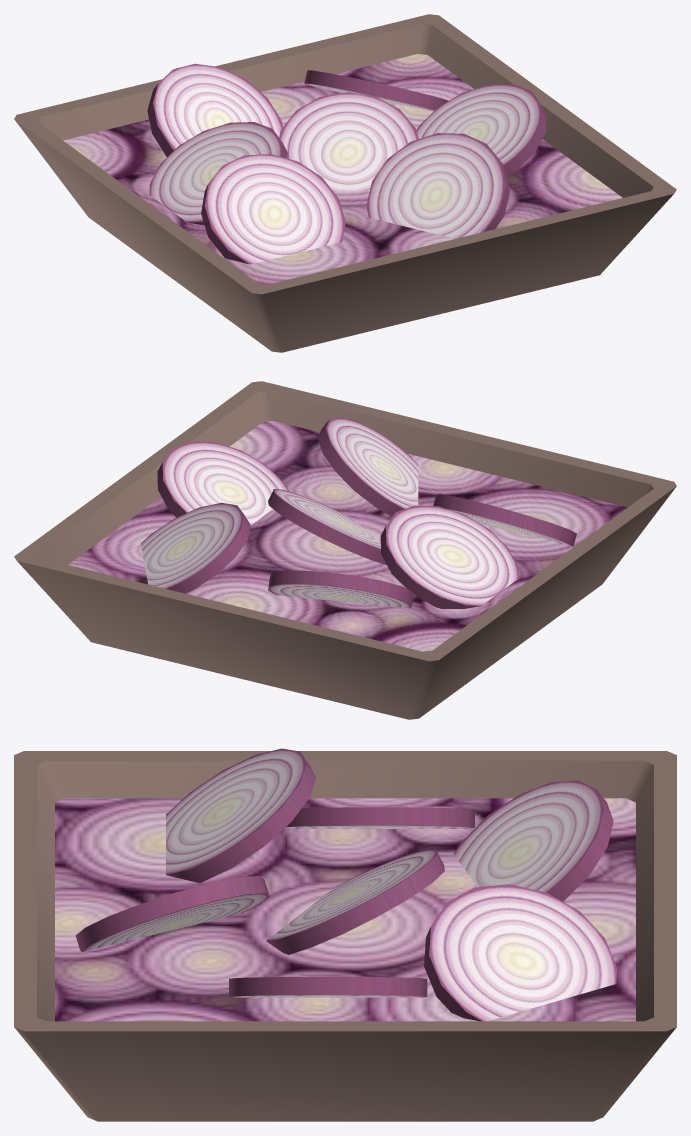
File: OnionTray.glb
3 views of the same model, one above another, from view 1: azimuth 30°, elevation 25°; view 2: azimuth 150°, elevation 25°; view 3: azimuth 270°, elevation 25° (orthographic). The views are drawn at different scales.
Parts seen in each view (by area): view 1: OnionTray; view 2: OnionTray; view 3: OnionTray.
Part boxes in pixels (<box>): OnionTray: <box>14,14,676,352</box>; OnionTray: <box>14,381,676,719</box>; OnionTray: <box>14,748,676,1121</box>.
Size of what is drawn, in the model's own units: 0.7422 by 0.2165 by 0.7422.
2 materials, 2 textured.
